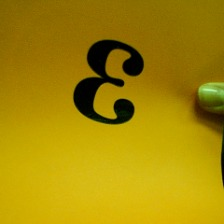orange3: (70, 36, 149, 127)
